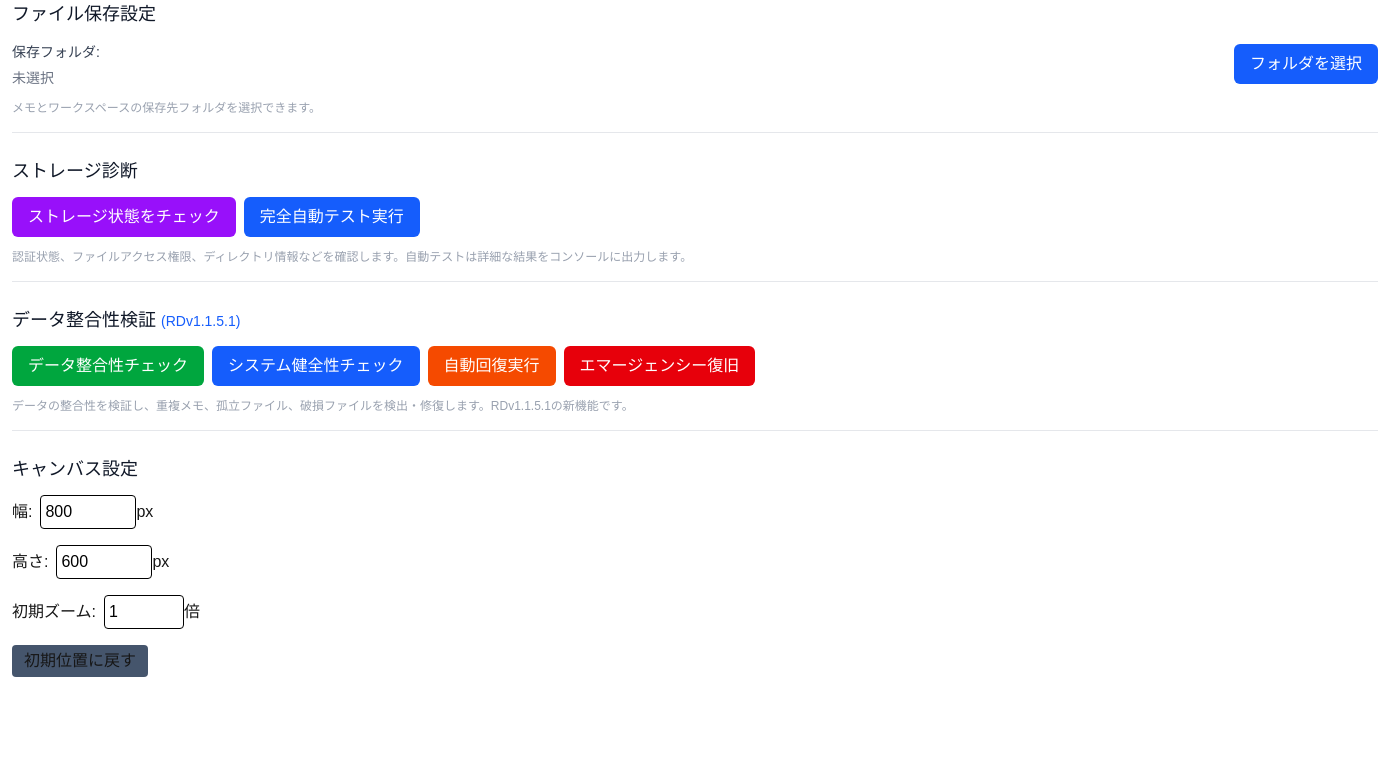
Test: GeneralSettings - File Location Selection › ディレクトリ選択機能 › should show loading state during directory selection
The image size is (1390, 768).
Note: 選択ボタンをクリック
Click the button "フォルダを選択" at (1306, 64), box [1234,44,1378,84]
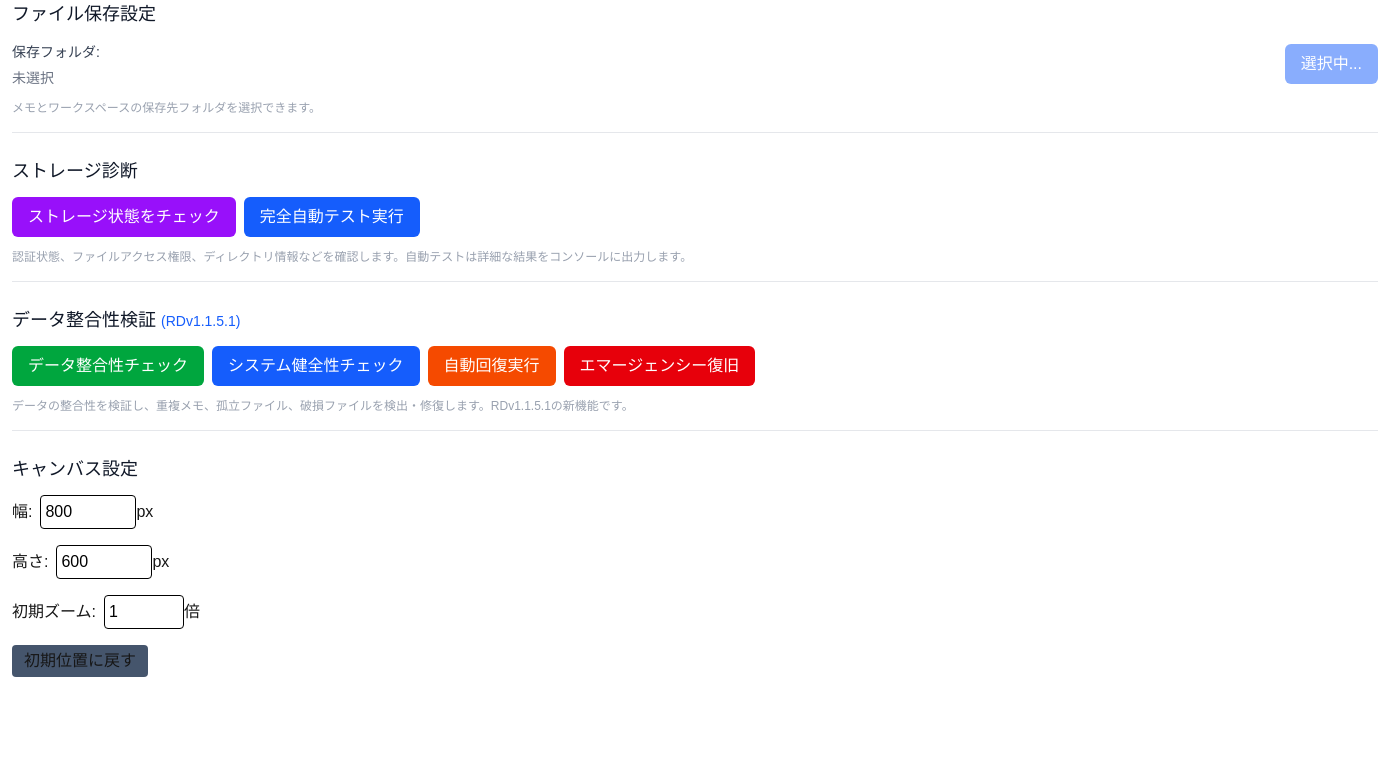
Check: the button "選択中..." is disabled, box [1285,44,1378,84]
